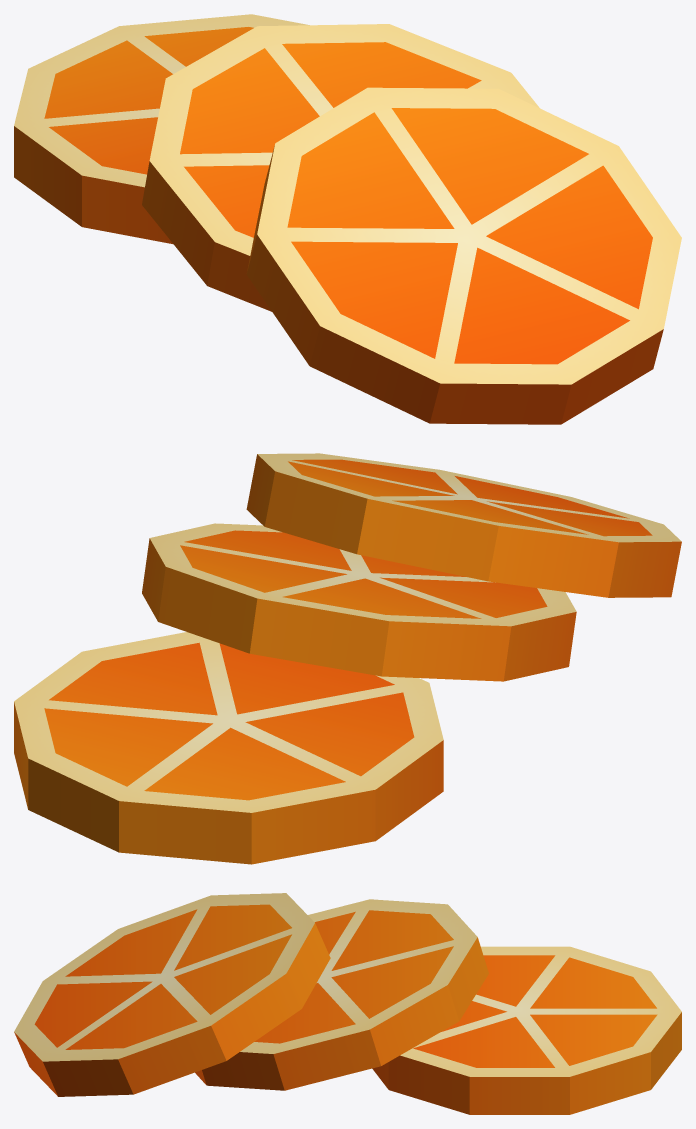
Rendered from Orange Slice.fbx.
3 renders of one model, top to bottom at view 1: azimuth 30°, elevation 25°; view 2: azimuth 150°, elevation 25°; view 3: azimuth 270°, elevation 25°, orthographic. The views are drawn at different scales.
Visible parts, largest first — view 1: Orange Slice.002, Orange Slice.001, Orange Slice; view 2: Orange Slice, Orange Slice.001, Orange Slice.002; view 3: Orange Slice.002, Orange Slice, Orange Slice.001.
Part boxes in pixels (x1,y1,x2,y2): Orange Slice.002: (246, 87, 681, 424); Orange Slice.001: (142, 24, 539, 311); Orange Slice: (14, 14, 309, 243); Orange Slice: (14, 632, 443, 864); Orange Slice.001: (142, 523, 576, 681); Orange Slice.002: (246, 453, 681, 597); Orange Slice.002: (14, 893, 330, 1096); Orange Slice: (372, 946, 681, 1114); Orange Slice.001: (195, 899, 488, 1090).
Bounding box in the file's own units: 11.49 × 5.93 × 24.89.
